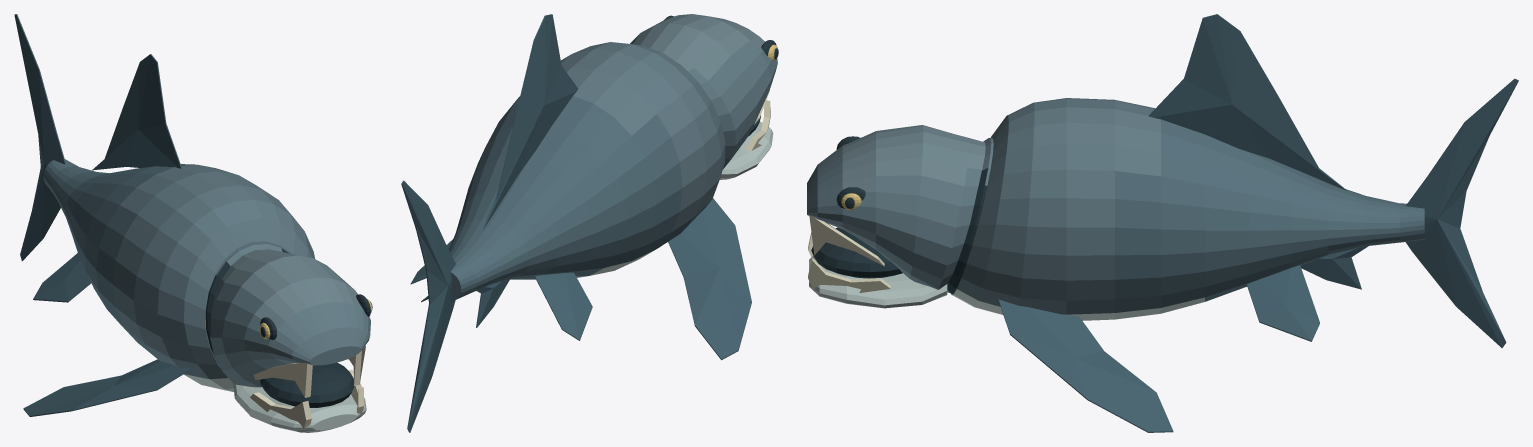
3 views of the same model, side by side, from view 1: azimuth 30°, elevation 25°; view 2: azimuth 150°, elevation 25°; view 3: azimuth 270°, elevation 25° (orthographic). The views are drawn at different scales.
Visible parts, largest first — view 1: continuous-stocky-trunk-and-caudal-peduncle, cranial-shield-and-cheeks, dorsal-fin, caudal-fin, pectoral-fin--1, lower-jaw-skin, mouth-recess, pelvic-fin--1, gill-opening-and-cranio-thoracic-joint, upper-gnathal--1, lower-gnathal--1; view 2: continuous-stocky-trunk-and-caudal-peduncle, cranial-shield-and-cheeks, pectoral-fin--1, dorsal-fin, caudal-fin, pelvic-fin--1, lower-jaw-skin, anal-fin, lower-gnathal--1; view 3: continuous-stocky-trunk-and-caudal-peduncle, cranial-shield-and-cheeks, dorsal-fin, caudal-fin, pectoral-fin-1, pelvic-fin-1, lower-jaw-skin, mouth-recess, gill-opening-and-cranio-thoracic-joint, anal-fin, upper-gnathal-1, lower-gnathal-1.
Part boxes in pixels (x1=…): continuous-stocky-trunk-and-caudal-peduncle: x1=43, y1=159, x2=314, y2=391; cranial-shield-and-cheeks: x1=210, y1=249, x2=370, y2=387; dorsal-fin: x1=92, y1=54, x2=181, y2=170; caudal-fin: x1=14, y1=14, x2=66, y2=260; pectoral-fin--1: x1=23, y1=359, x2=191, y2=416; lower-jaw-skin: x1=233, y1=383, x2=366, y2=432; mouth-recess: x1=260, y1=362, x2=354, y2=407; pelvic-fin--1: x1=33, y1=253, x2=91, y2=302; gill-opening-and-cranio-thoracic-joint: x1=205, y1=243, x2=288, y2=364; upper-gnathal--1: x1=253, y1=363, x2=312, y2=397; lower-gnathal--1: x1=250, y1=392, x2=311, y2=428; continuous-stocky-trunk-and-caudal-peduncle: x1=449, y1=42, x2=725, y2=301; cranial-shield-and-cheeks: x1=630, y1=14, x2=777, y2=169; pectoral-fin--1: x1=668, y1=198, x2=751, y2=360; dorsal-fin: x1=483, y1=14, x2=578, y2=228; caudal-fin: x1=401, y1=180, x2=455, y2=432; pelvic-fin--1: x1=534, y1=272, x2=592, y2=340; lower-jaw-skin: x1=719, y1=121, x2=773, y2=179; anal-fin: x1=476, y1=279, x2=509, y2=327; lower-gnathal--1: x1=745, y1=100, x2=770, y2=150; continuous-stocky-trunk-and-caudal-peduncle: x1=951, y1=98, x2=1424, y2=320; cranial-shield-and-cheeks: x1=807, y1=125, x2=985, y2=289; dorsal-fin: x1=1148, y1=14, x2=1347, y2=190; caudal-fin: x1=1405, y1=78, x2=1518, y2=347; pectoral-fin-1: x1=998, y1=299, x2=1173, y2=432; pelvic-fin-1: x1=1246, y1=265, x2=1319, y2=341; lower-jaw-skin: x1=809, y1=256, x2=947, y2=308; mouth-recess: x1=811, y1=227, x2=902, y2=278; gill-opening-and-cranio-thoracic-joint: x1=947, y1=138, x2=993, y2=293; anal-fin: x1=1300, y1=246, x2=1368, y2=289; upper-gnathal-1: x1=809, y1=215, x2=884, y2=266; lower-gnathal-1: x1=808, y1=258, x2=890, y2=292.
Bounding box in the file's own units: 1.86 × 1.78 × 3.4.
